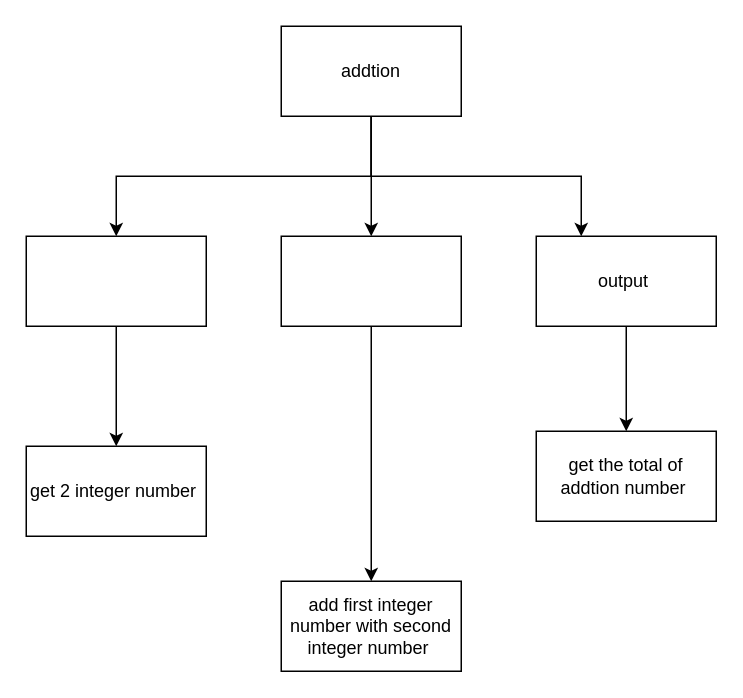
The diagram is 743 pixels wide and 698 high, and some of its shapes have lost their labels. Each missing label, with the centre of its shape:
"input" goes at point (115, 280).
"process" goes at point (370, 280).
